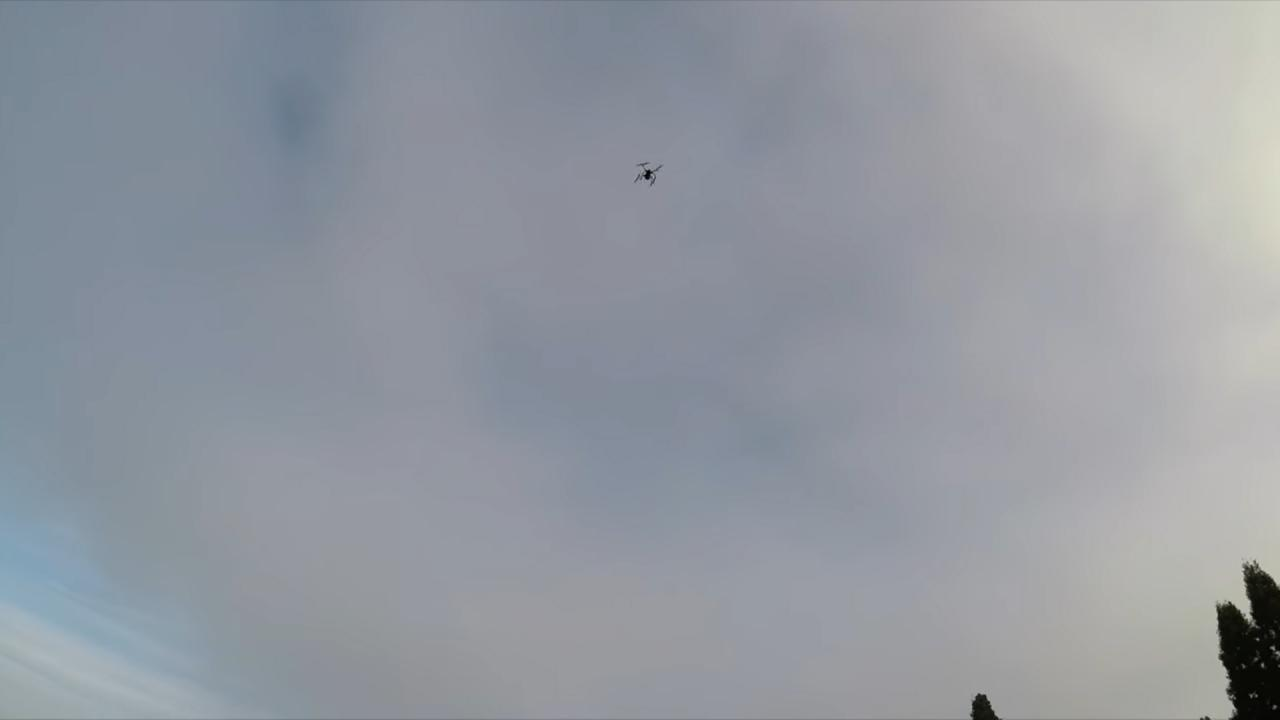Drone: (624, 152, 670, 200)
